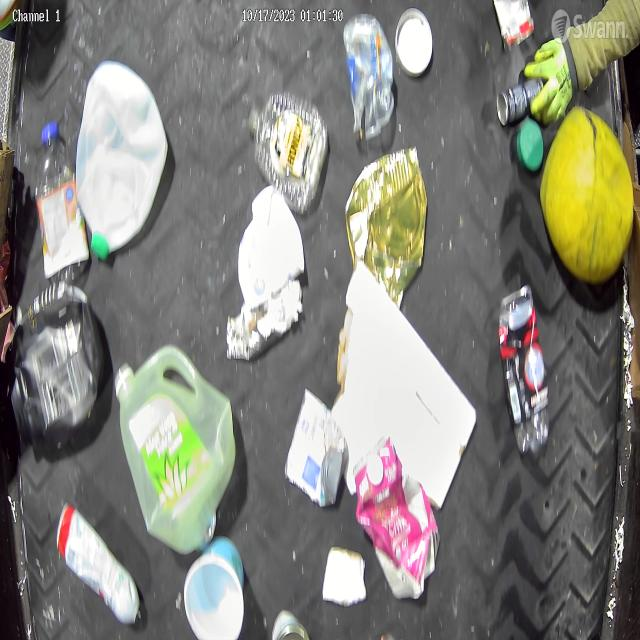can: (345, 143, 429, 307), (285, 388, 345, 508), (497, 78, 544, 126)
milk_jug: (114, 348, 235, 552), (78, 59, 170, 259)
non_white_jug: (11, 284, 104, 451), (353, 435, 441, 599)
plastic_bottle: (248, 93, 329, 209), (499, 285, 551, 453), (36, 122, 91, 277)
